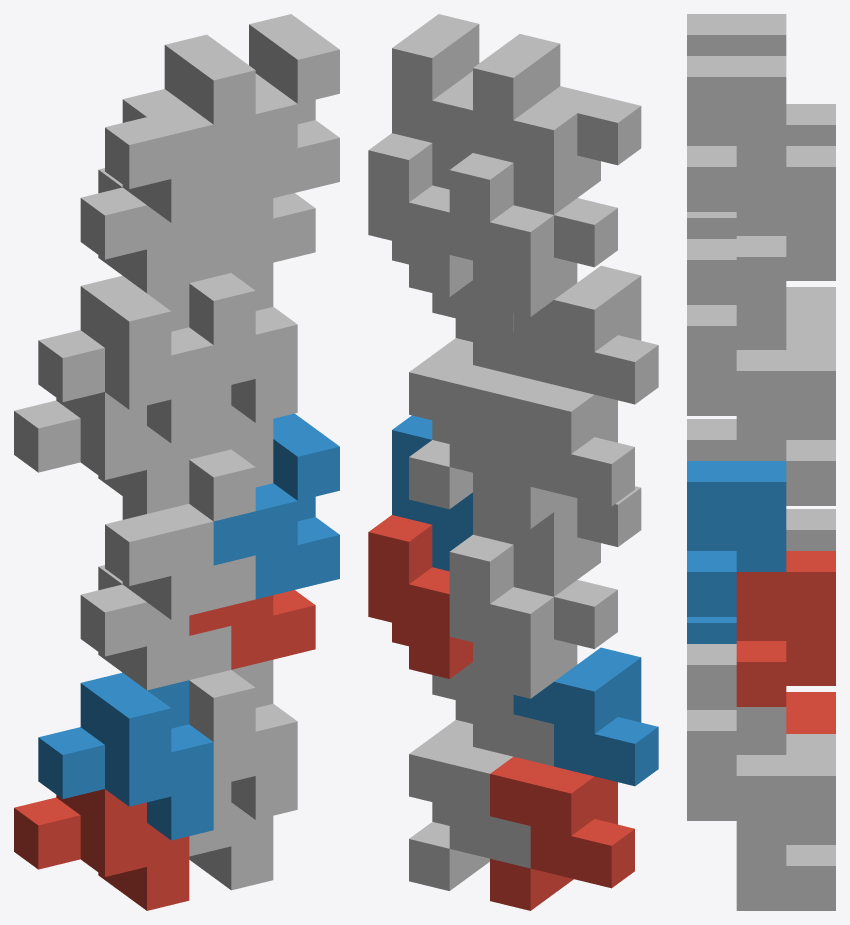
The model's file is tiling.obj.
The picture shows the model from 3 angles, left to right: view 1: azimuth 30°, elevation 25°; view 2: azimuth 150°, elevation 25°; view 3: azimuth 270°, elevation 25°; orthographic projection. The views are drawn at different scales.
Visible parts, largest first — view 1: copy_1_domain_2, copy_1_domain_4, copy_2_domain_4, copy_2_domain_2, copy_2_domain_8, copy_2_domain_6, copy_1_domain_3, copy_1_domain_1, copy_1_domain_6, copy_1_domain_8, copy_2_domain_1, copy_2_domain_3 (+4 smaller); view 2: copy_2_domain_4, copy_2_domain_3, copy_2_domain_1, copy_1_domain_1, copy_1_domain_3, copy_1_domain_5, copy_1_domain_2, copy_1_domain_4, copy_1_domain_7, copy_2_domain_8, copy_2_domain_7, copy_2_domain_5 (+4 smaller); view 3: copy_1_domain_6, copy_1_domain_8, copy_2_domain_5, copy_2_domain_7, copy_1_domain_5, copy_2_domain_6, copy_2_domain_8, copy_1_domain_7, copy_2_domain_4, copy_1_domain_1, copy_1_domain_3, copy_2_domain_1 (+4 smaller).
Boxes of the visible parts, bbox=[...] form: copy_1_domain_2: bbox=[38, 672, 213, 840]; copy_1_domain_4: bbox=[38, 275, 213, 443]; copy_2_domain_4: bbox=[105, 34, 255, 222]; copy_2_domain_2: bbox=[105, 449, 255, 619]; copy_2_domain_8: bbox=[213, 14, 339, 202]; copy_2_domain_6: bbox=[213, 413, 339, 599]; copy_1_domain_3: bbox=[14, 392, 189, 513]; copy_1_domain_1: bbox=[14, 789, 189, 910]; copy_1_domain_6: bbox=[189, 660, 297, 819]; copy_1_domain_8: bbox=[189, 263, 297, 422]; copy_2_domain_1: bbox=[80, 565, 231, 690]; copy_2_domain_3: bbox=[80, 168, 231, 293]; copy_2_domain_4: bbox=[473, 34, 641, 214]; copy_2_domain_3: bbox=[449, 153, 617, 316]; copy_2_domain_1: bbox=[449, 534, 617, 698]; copy_1_domain_1: bbox=[490, 756, 634, 910]; copy_1_domain_3: bbox=[490, 375, 634, 528]; copy_1_domain_5: bbox=[409, 737, 530, 890]; copy_1_domain_2: bbox=[513, 647, 658, 786]; copy_1_domain_4: bbox=[513, 266, 658, 404]; copy_1_domain_7: bbox=[409, 355, 530, 509]; copy_2_domain_8: bbox=[392, 14, 479, 189]; copy_2_domain_7: bbox=[368, 133, 472, 297]; copy_2_domain_5: bbox=[368, 515, 472, 678]; copy_1_domain_6: bbox=[687, 644, 786, 820]; copy_1_domain_8: bbox=[687, 239, 786, 415]; copy_2_domain_5: bbox=[736, 551, 835, 706]; copy_2_domain_7: bbox=[736, 146, 835, 301]; copy_1_domain_5: bbox=[736, 734, 835, 910]; copy_2_domain_6: bbox=[687, 461, 786, 616]; copy_2_domain_8: bbox=[687, 56, 786, 211]; copy_1_domain_7: bbox=[736, 329, 835, 505]; copy_2_domain_4: bbox=[687, 14, 786, 55]; copy_1_domain_1: bbox=[786, 692, 835, 733]; copy_1_domain_3: bbox=[786, 287, 835, 328]; copy_2_domain_1: bbox=[786, 509, 835, 550].
Size of the model in its own units: 6 by 19 by 3.
